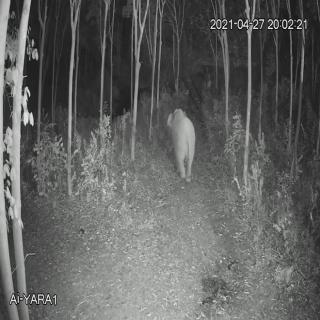Elephant: (164, 102, 202, 184)
